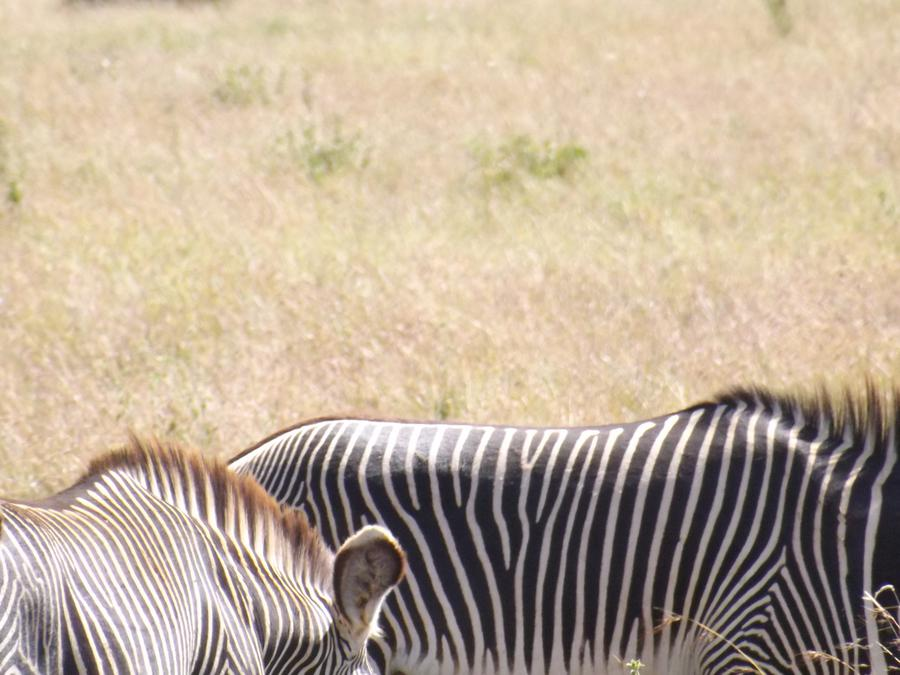zebra_grevys: (383, 408, 800, 673)
